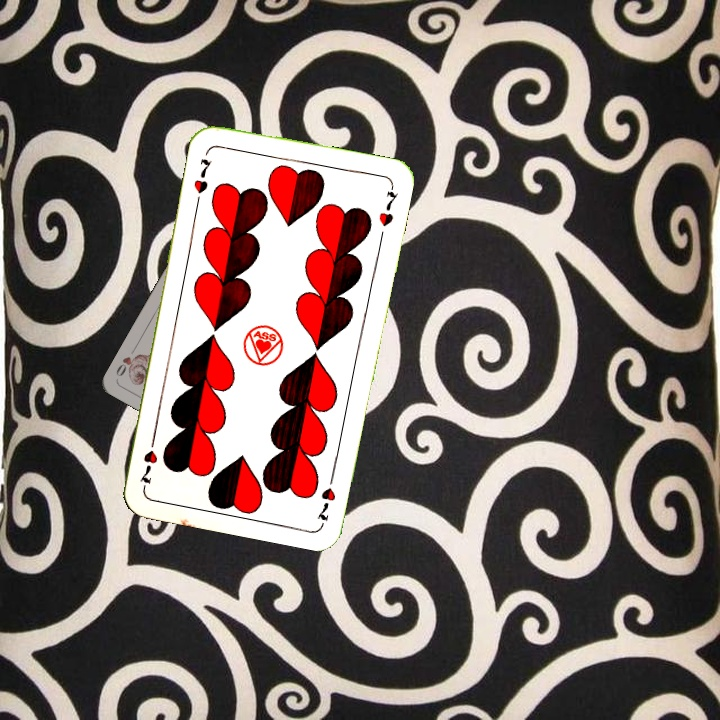H7: (313, 467, 338, 526), (189, 155, 214, 196)
